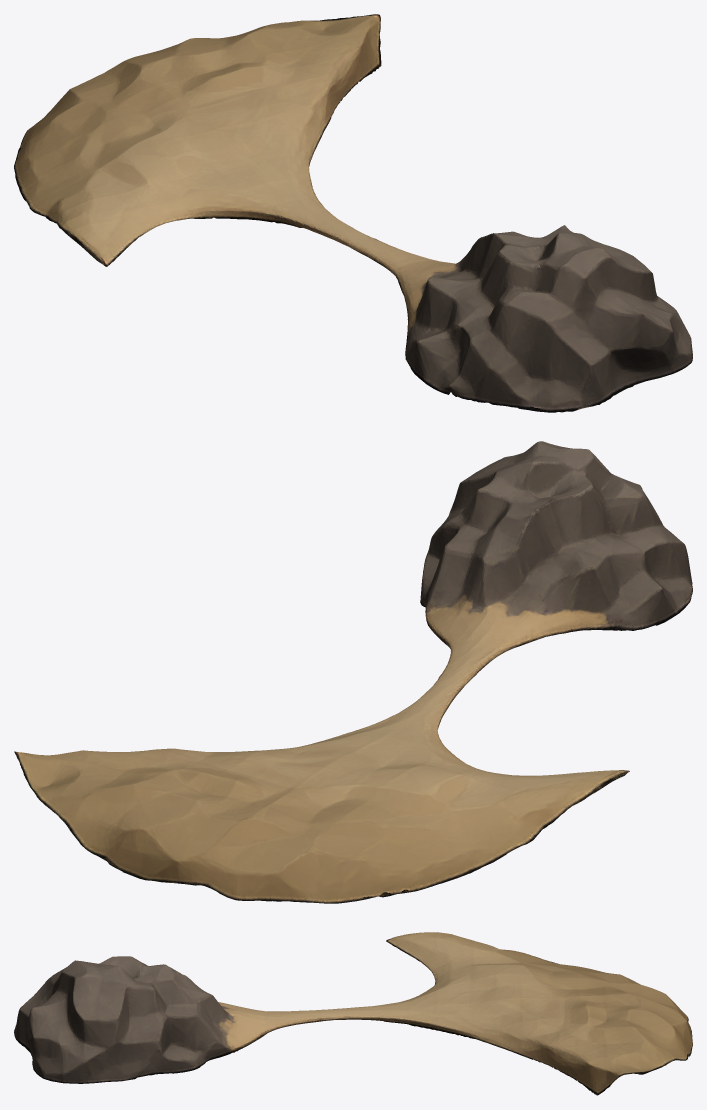
3 views of the same model, one above another, from view 1: azimuth 30°, elevation 25°; view 2: azimuth 150°, elevation 25°; view 3: azimuth 270°, elevation 25° (orthographic). The views are drawn at different scales.
Parts seen in each view (by area): view 1: world; view 2: world; view 3: world.
Boxes of the visible parts, x1,y1,x2,y2 form: world: (14, 14, 692, 412); world: (14, 441, 692, 903); world: (14, 932, 692, 1095).
Size of the model in its own units: 0.5513 by 0.144 by 0.9997.
1 material, 1 textured.
